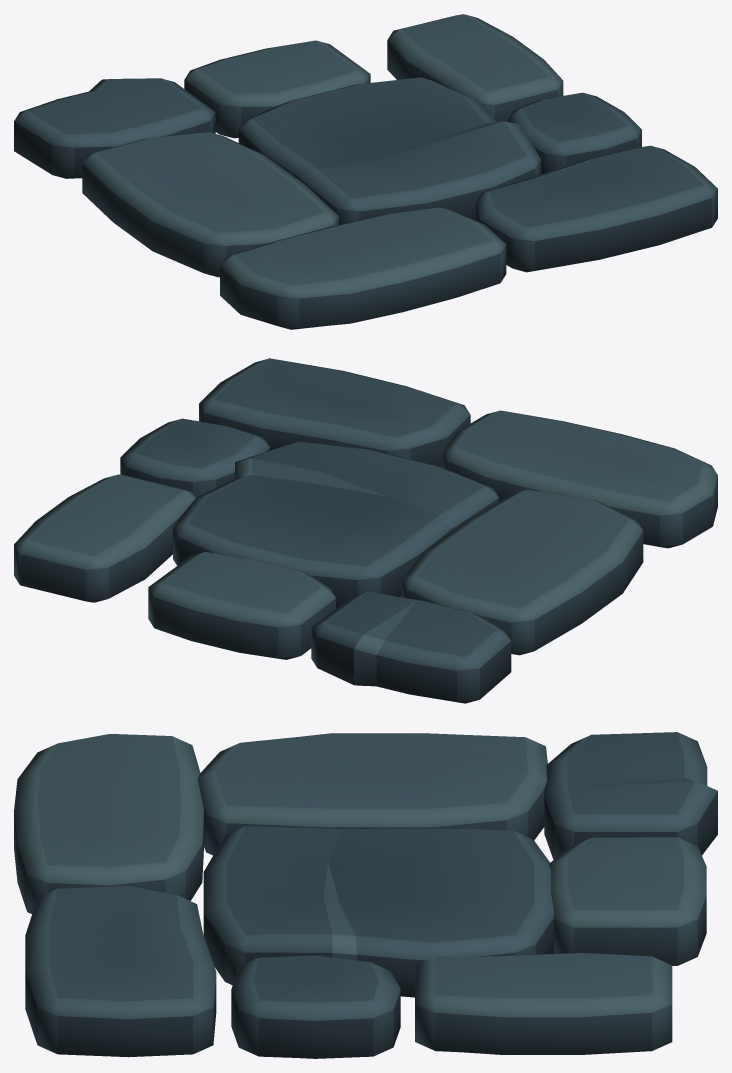
File: stone_path_4_LOD_setup.fbx
3 views of the same model, one above another, from view 1: azimuth 30°, elevation 25°; view 2: azimuth 150°, elevation 25°; view 3: azimuth 270°, elevation 25° (orthographic). The views are drawn at different scales.
Visible parts, largest first — view 1: stone_path_4_LOD0; view 2: stone_path_4_LOD0; view 3: stone_path_4_LOD0.
Part boxes in pixels (x1=…): stone_path_4_LOD0: x1=14, y1=14, x2=717, y2=329; stone_path_4_LOD0: x1=14, y1=358, x2=717, y2=703; stone_path_4_LOD0: x1=14, y1=732, x2=717, y2=1058.
Size of what is drawn, in the model's own units: 202 by 20.87 by 208.
